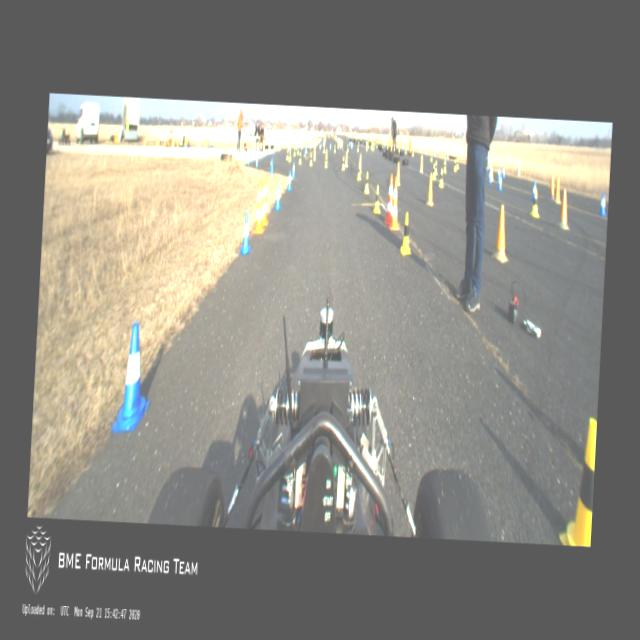blue_cone: (112, 320, 154, 433), (239, 210, 254, 256), (274, 182, 282, 210), (599, 193, 608, 216), (531, 180, 537, 202), (287, 172, 292, 190), (498, 174, 503, 191), (254, 154, 260, 167), (270, 157, 274, 175), (488, 168, 492, 184), (292, 162, 296, 178), (497, 164, 501, 180), (502, 164, 505, 180), (210, 136, 213, 148), (247, 156, 250, 165), (251, 154, 254, 162), (329, 144, 332, 150), (350, 140, 352, 149), (278, 144, 280, 153), (348, 142, 351, 148), (273, 146, 275, 154), (319, 144, 321, 151), (434, 152, 436, 159), (446, 155, 448, 162), (262, 152, 264, 158), (268, 150, 270, 156), (425, 150, 427, 156), (310, 144, 312, 150), (340, 144, 340, 150), (420, 148, 420, 154)
large_orange_cone: (252, 177, 268, 234), (388, 178, 402, 230), (260, 175, 271, 228), (384, 174, 394, 227)
unknown_cone: (491, 202, 512, 264), (556, 186, 572, 230), (426, 173, 436, 206), (555, 176, 562, 204), (396, 160, 402, 186), (550, 177, 555, 200), (358, 154, 363, 174), (420, 154, 424, 173), (490, 164, 494, 182), (516, 160, 520, 176), (344, 152, 348, 168), (241, 151, 245, 167), (324, 148, 328, 162), (313, 146, 316, 161), (304, 144, 306, 157), (337, 140, 339, 149), (341, 140, 343, 148)
yellow_cone: (559, 416, 597, 546), (399, 212, 414, 255), (530, 190, 540, 218), (374, 186, 382, 214), (364, 172, 370, 194), (439, 169, 444, 188), (432, 162, 437, 181), (358, 162, 362, 180), (342, 154, 346, 170), (434, 160, 438, 176), (443, 158, 447, 174), (310, 152, 314, 166), (204, 136, 208, 149), (299, 151, 302, 165), (286, 148, 289, 162), (454, 158, 457, 172), (325, 155, 328, 168), (456, 156, 459, 169), (288, 151, 291, 162), (430, 152, 433, 162), (398, 146, 401, 154), (294, 147, 296, 157), (334, 144, 336, 154), (372, 142, 374, 151), (347, 144, 349, 152), (323, 145, 325, 153), (357, 145, 359, 153), (298, 146, 300, 154), (404, 146, 406, 154), (394, 144, 396, 152), (412, 148, 414, 156), (366, 144, 368, 152), (386, 142, 388, 150), (376, 142, 378, 148)
